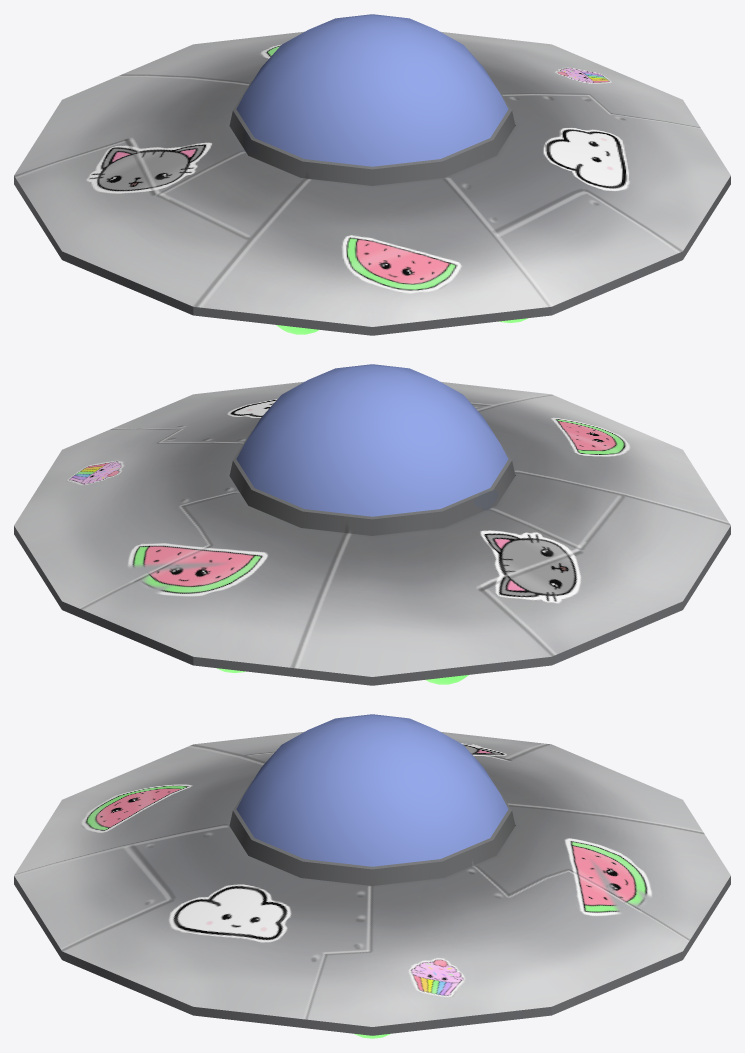
The model's file is ufo.fbx.
3 views of the same model, one above another, from view 1: azimuth 30°, elevation 25°; view 2: azimuth 150°, elevation 25°; view 3: azimuth 270°, elevation 25° (orthographic).
Visible parts, largest first — view 1: Cylinder; view 2: Cylinder; view 3: Cylinder.
Boxes of the visible parts, x1,y1,x2,y2 form: Cylinder: [14, 14, 730, 335]; Cylinder: [14, 364, 730, 685]; Cylinder: [14, 714, 730, 1038].
Bounding box in the file's own units: 142 × 41.75 × 142.
